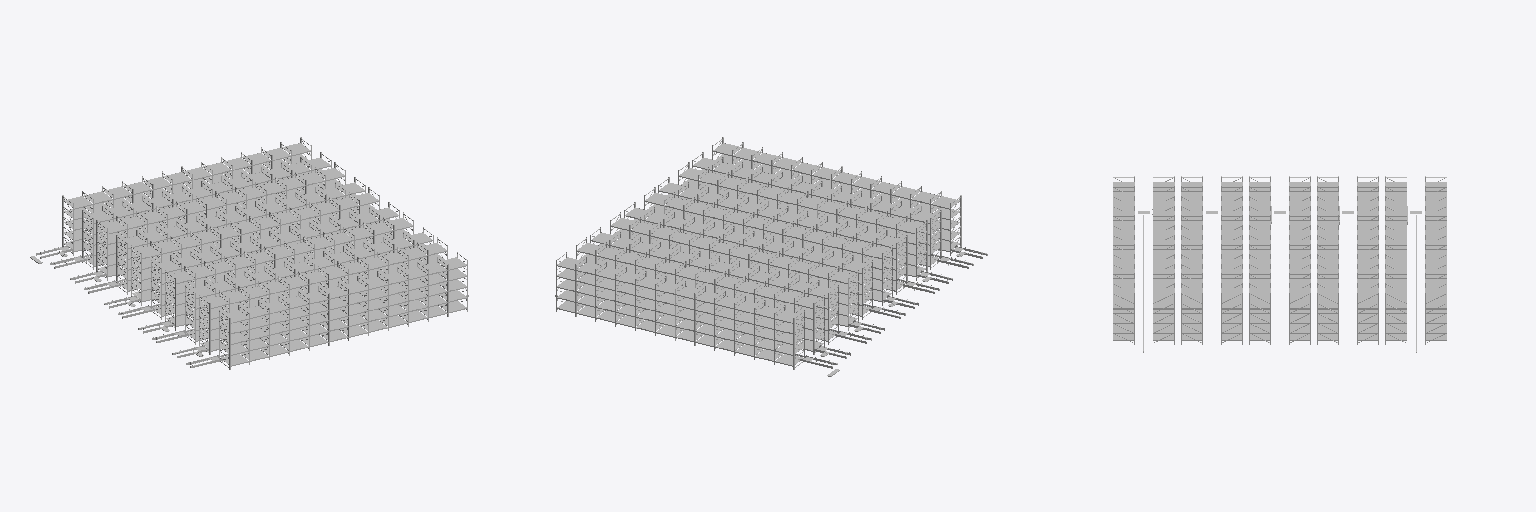
The model's file is l_shelf.obj.
The picture shows the model from 3 angles: view 1: azimuth 30°, elevation 25°; view 2: azimuth 150°, elevation 25°; view 3: azimuth 270°, elevation 25°; orthographic projection.
Visible parts, largest first — view 1: Shelf635, Shelf600, Shelf610, Shelf620, Shelf590, Shelf630, Shelf615, Shelf625, Shelf605, Shelf595, Shelf632, Shelf631 (+16 smaller); view 2: Shelf590, Shelf625, Shelf615, Shelf605, Shelf635, Shelf595, Shelf600, Shelf610, Shelf620, Shelf630, Shelf2, Shelf587 (+16 smaller); view 3: Shelf630, Shelf595, Shelf590, Shelf635, Shelf615, Shelf610, Shelf600, Shelf620, Shelf605, Shelf625, Rack6, Rack3 (+8 smaller).
Boxes of the visible parts, x1,y1,x2,y2 form: Shelf635: [220, 257, 466, 323]; Shelf600: [98, 168, 344, 233]; Shelf610: [132, 193, 378, 258]; Shelf620: [166, 218, 412, 283]; Shelf590: [64, 143, 310, 209]; Shelf630: [200, 243, 446, 308]; Shelf615: [152, 207, 398, 273]; Shelf625: [186, 232, 432, 298]; Shelf605: [118, 182, 364, 248]; Shelf595: [84, 158, 330, 223]; Shelf632: [220, 290, 466, 355]; Shelf631: [220, 301, 466, 366]; Shelf590: [557, 257, 803, 323]; Shelf625: [679, 168, 925, 233]; Shelf615: [645, 193, 891, 258]; Shelf605: [611, 218, 857, 283]; Shelf635: [713, 143, 959, 209]; Shelf595: [577, 243, 823, 308]; Shelf600: [591, 232, 837, 298]; Shelf610: [625, 207, 871, 273]; Shelf620: [659, 182, 905, 248]; Shelf630: [693, 158, 939, 223]; Shelf2: [557, 301, 803, 366]; Shelf587: [557, 290, 803, 355]; Shelf630: [1153, 182, 1174, 297]; Shelf595: [1385, 182, 1406, 297]; Shelf590: [1425, 182, 1446, 297]; Shelf635: [1113, 182, 1134, 297]; Shelf615: [1249, 182, 1270, 297]; Shelf610: [1289, 182, 1310, 297]; Shelf600: [1357, 182, 1378, 297]; Shelf620: [1221, 182, 1242, 297]; Shelf605: [1317, 182, 1338, 297]; Shelf625: [1181, 182, 1202, 297]; Rack6: [1221, 176, 1242, 344]; Rack3: [1317, 176, 1338, 344].
Size of the model in its own units: 36.75 by 6.35 by 36.8.